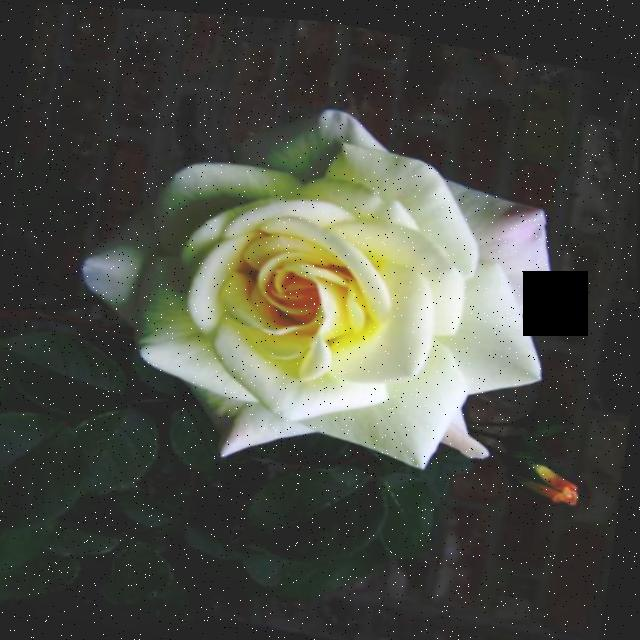rose: (27, 36, 607, 539)
